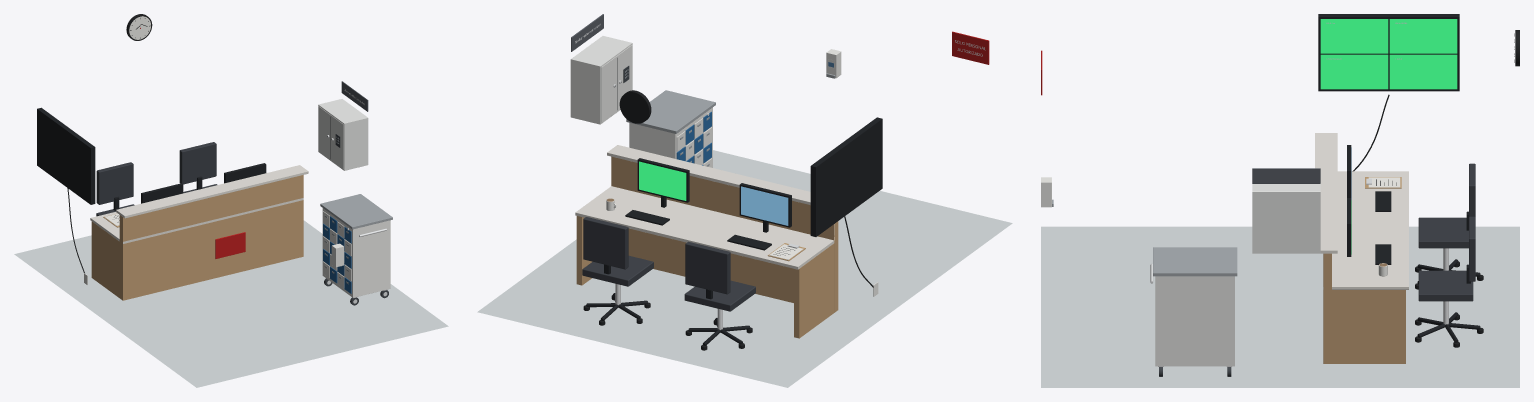
The model's file is 04_n1_centrales_de_enfermeria.glb.
3 renders of one model, left to right at view 1: azimuth 30°, elevation 25°; view 2: azimuth 150°, elevation 25°; view 3: azimuth 270°, elevation 25°, orthographic. The views are drawn at different scales.
Parts seen in each view (by area): view 1: piso · Control de enfermería de urgencias, mostrador_enfermeria, carro_medicamentos, pantalla_central, gabinete_controlados, silla_oficina (×2), placa · SOLO PERSONALAUTORIZADO.001, reloj; view 2: piso · Control de enfermería de urgencias, mostrador_enfermeria, silla_oficina (×2), pantalla_central, carro_medicamentos, gabinete_controlados, placa · SOLO PERSONALAUTORIZADO.001, reloj, placa · Medicamentos controlados; view 3: piso · Control de enfermería de urgencias, mostrador_enfermeria, pantalla_central, carro_medicamentos, silla_oficina (×2), gabinete_controlados, placa · Medicamentos controlados, carpeta.
Part boxes in pixels (x1,y1,x2,y2): piso · Control de enfermería de urgencias: (14, 220, 448, 387); mostrador_enfermeria: (90, 163, 308, 300); carro_medicamentos: (320, 194, 392, 305); pantalla_central: (37, 107, 95, 204); gabinete_controlados: (318, 99, 368, 170); silla_oficina (×2): (96, 142, 217, 216); placa · SOLO PERSONALAUTORIZADO.001: (215, 232, 245, 258); reloj: (126, 14, 152, 40); piso · Control de enfermería de urgencias: (477, 150, 1012, 387); mostrador_enfermeria: (575, 145, 838, 338); silla_oficina (×2): (582, 217, 755, 350); pantalla_central: (810, 117, 882, 236); carro_medicamentos: (626, 90, 715, 167); gabinete_controlados: (570, 36, 632, 124); placa · SOLO PERSONALAUTORIZADO.001: (952, 31, 989, 64); reloj: (619, 90, 651, 123); placa · Medicamentos controlados: (571, 14, 603, 51); piso · Control de enfermería de urgencias: (1041, 226, 1519, 387); mostrador_enfermeria: (1315, 133, 1408, 363); pantalla_central: (1318, 14, 1459, 91); carro_medicamentos: (1150, 247, 1237, 376); silla_oficina (×2): (1415, 163, 1483, 347); gabinete_controlados: (1252, 184, 1320, 253); placa · Medicamentos controlados: (1252, 168, 1320, 183); carpeta: (1365, 177, 1401, 188).
Bounding box in the file's own units: 3.35 × 2.66 × 4.2.
21 materials, 1 textured.
